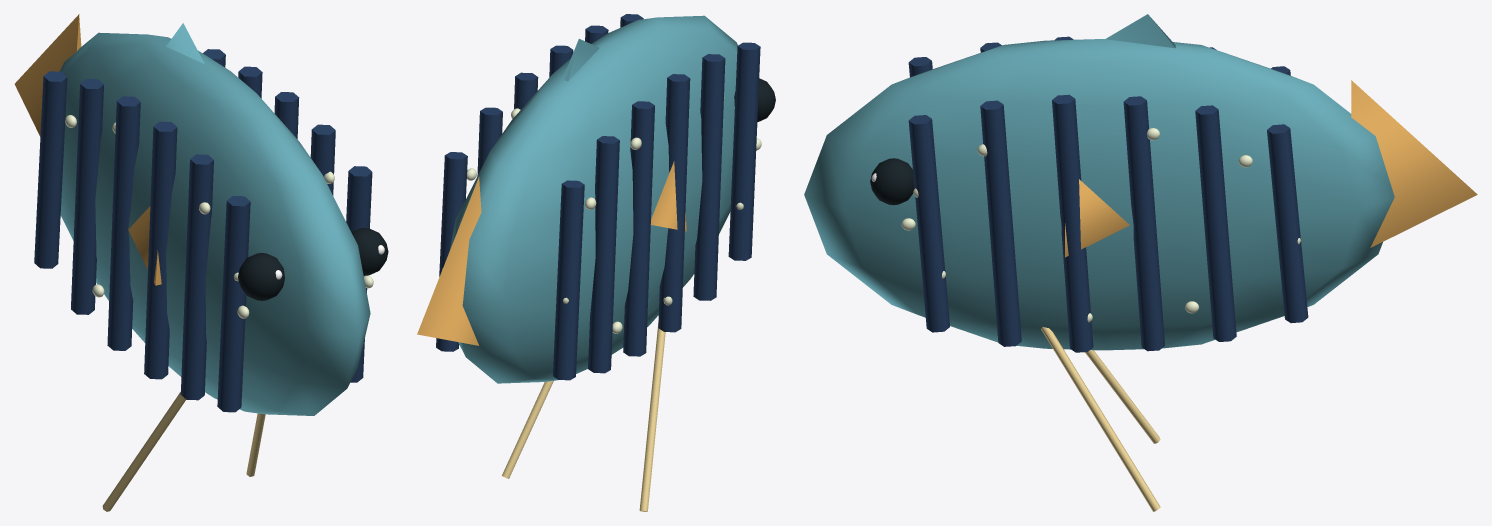
Rendered from gourami.glb.
3 views of the same model, side by side, from view 1: azimuth 30°, elevation 25°; view 2: azimuth 150°, elevation 25°; view 3: azimuth 270°, elevation 25° (orthographic). The views are drawn at different scales.
Visible parts, largest first — view 1: skin (×2), accent (×14), eye (×2); view 2: skin (×2), accent (×14), eye; view 3: skin (×2), accent (×10), eye.
Part boxes in pixels (x1,y1,x2,y2): skin (×2): (59, 23, 370, 415); accent (×14): (14, 14, 372, 511); eye (×2): (238, 228, 388, 300); skin (×2): (450, 15, 737, 383); accent (×14): (417, 42, 760, 511); eye: (734, 78, 775, 122); skin (×2): (804, 14, 1394, 350); accent (×10): (908, 80, 1477, 511); eye: (870, 158, 914, 205).
Bounding box in the file's own units: 0.9489 × 2.82 × 3.72.
